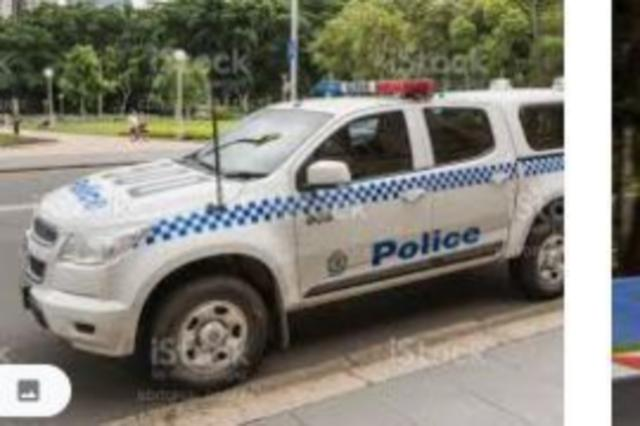police: (19, 76, 564, 398)
